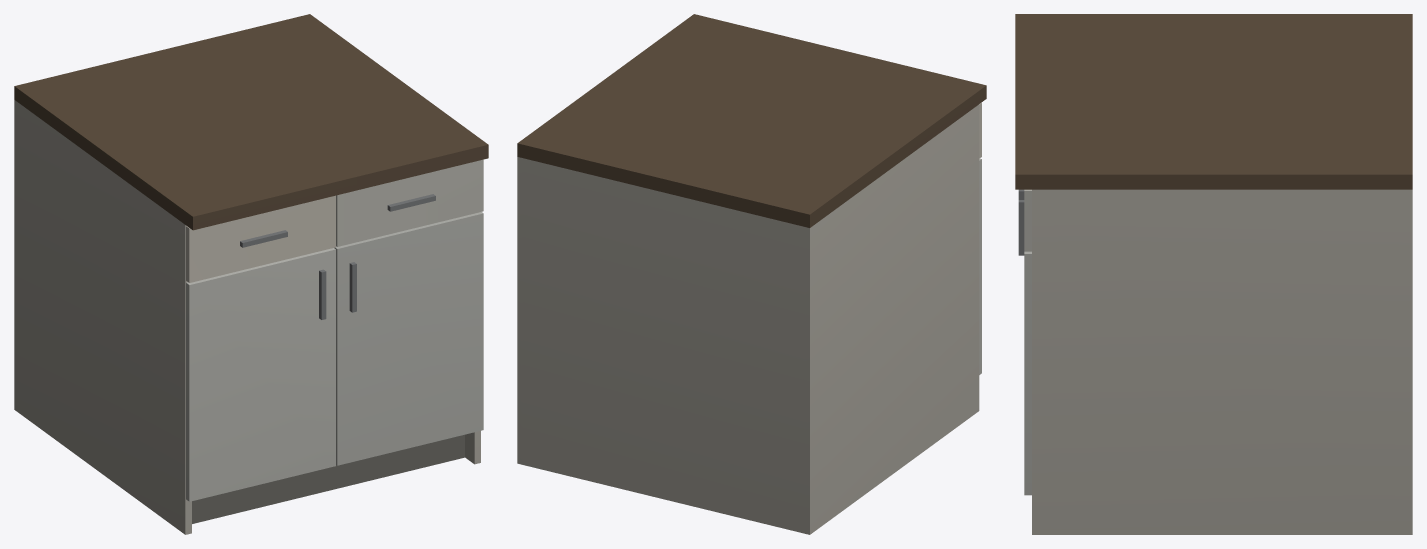
Rendered from cabinet.kitchen.white.glb.
3 renders of one model, left to right at view 1: azimuth 30°, elevation 25°; view 2: azimuth 150°, elevation 25°; view 3: azimuth 270°, elevation 25°, orthographic. The views are drawn at different scales.
Parts seen in each view (by area): view 1: cabinet_kitchen_white; view 2: cabinet_kitchen_white; view 3: cabinet_kitchen_white.
Part boxes in pixels (left/top/right/bottom): cabinet_kitchen_white: left=14, top=14, right=488, bottom=534; cabinet_kitchen_white: left=517, top=14, right=986, bottom=534; cabinet_kitchen_white: left=1015, top=14, right=1412, bottom=534.
Size of what is drawn, in the model's own units: 0.908 by 0.95 by 0.95.
